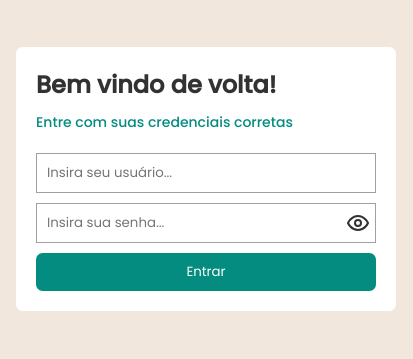
SignIn › should be return an error message for invalid password
Type "e" into the password field with placeholder "Insira sua senha...".
click(194, 223); type("e")  # box [42,204,346,242]
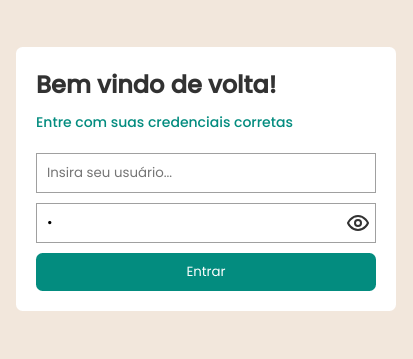
Submit the form from the button with test id "button", box [36,253,376,291]
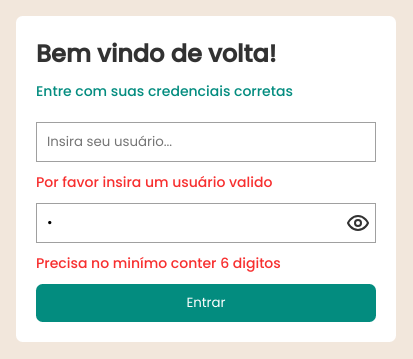
Expected: the text "Precisa no minímo conter 6 digitos" is shown, [36,253,281,273]
